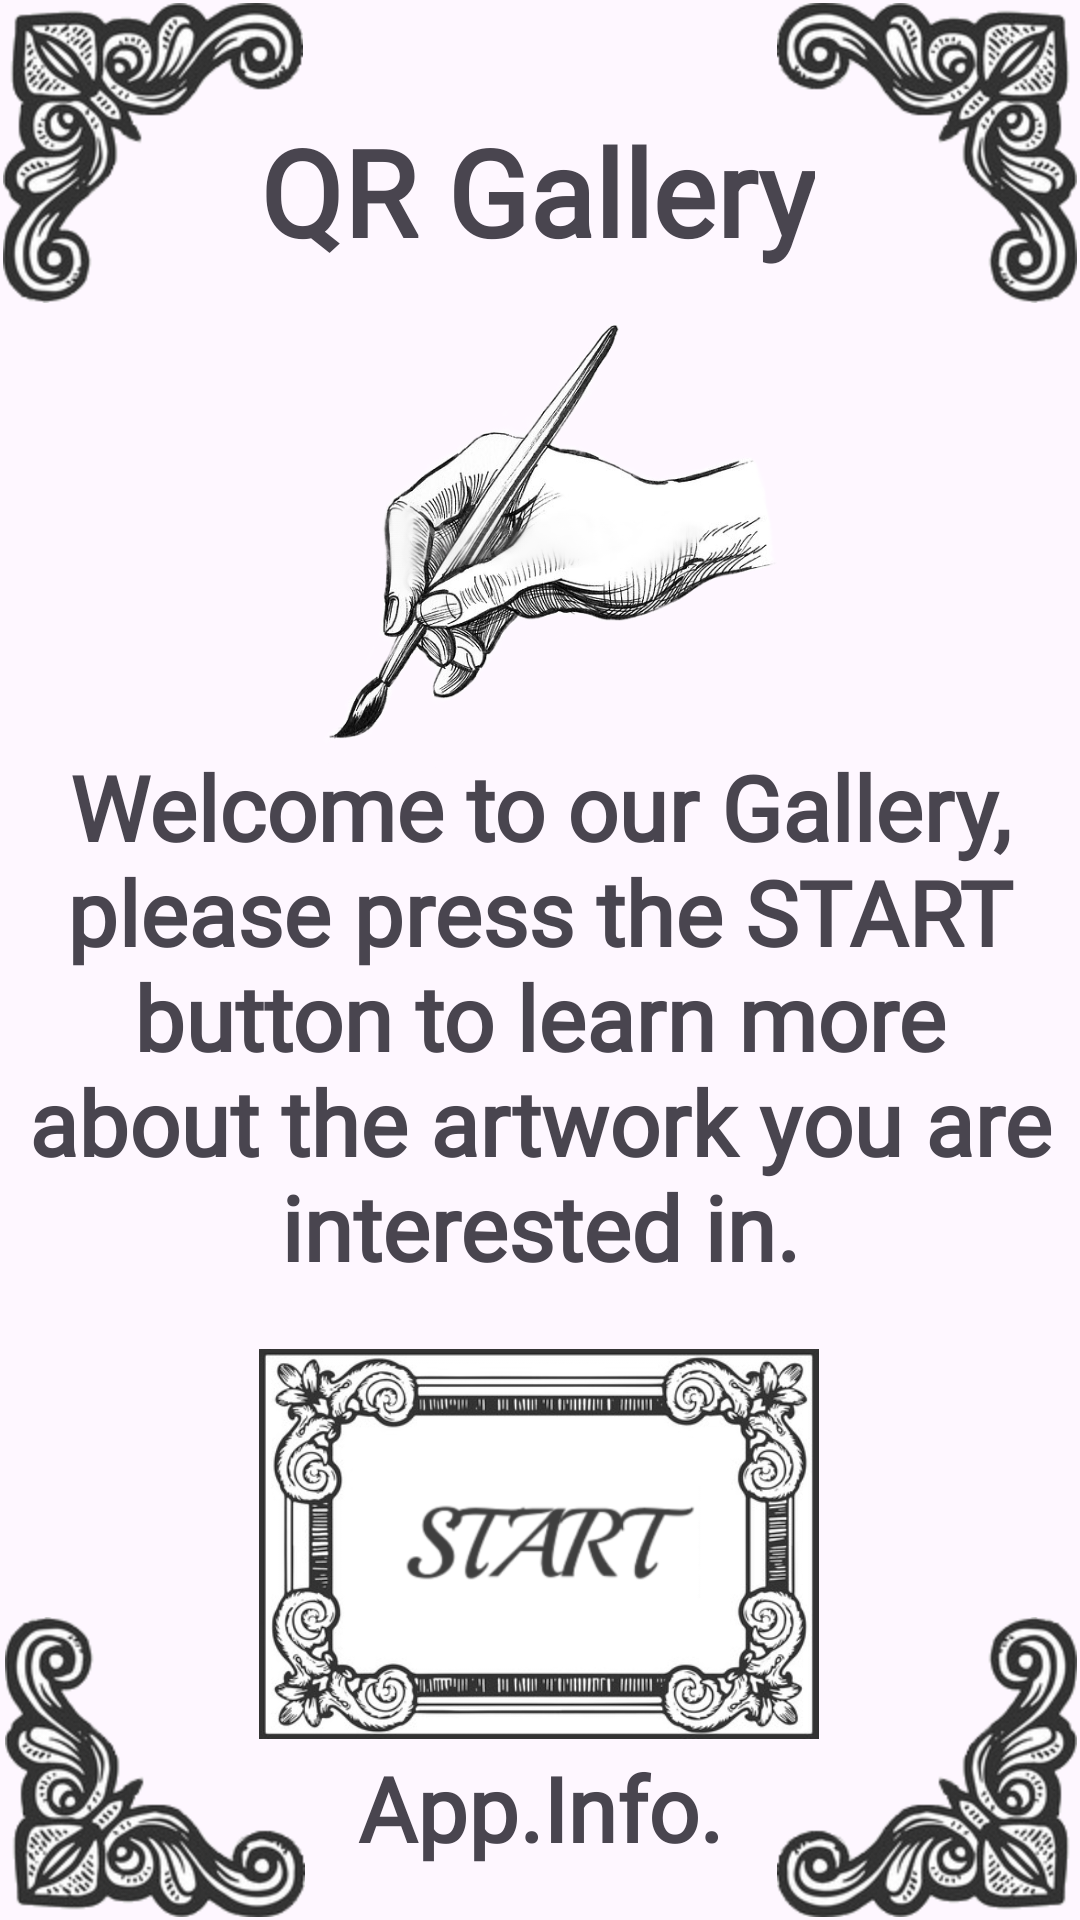

Where to tap for icons on this 1080×1920 app screen, as [x,y]:
bottom left frame: [155,1767]
bottom right frame: [927,1767]
top left frame: [153,153]
top right frame: [927,153]
